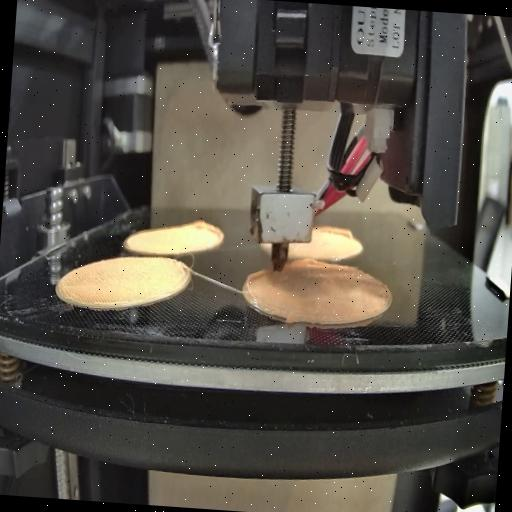over_extrusion: (190, 218, 226, 252), (243, 265, 273, 302), (318, 222, 354, 242), (289, 256, 320, 270)
